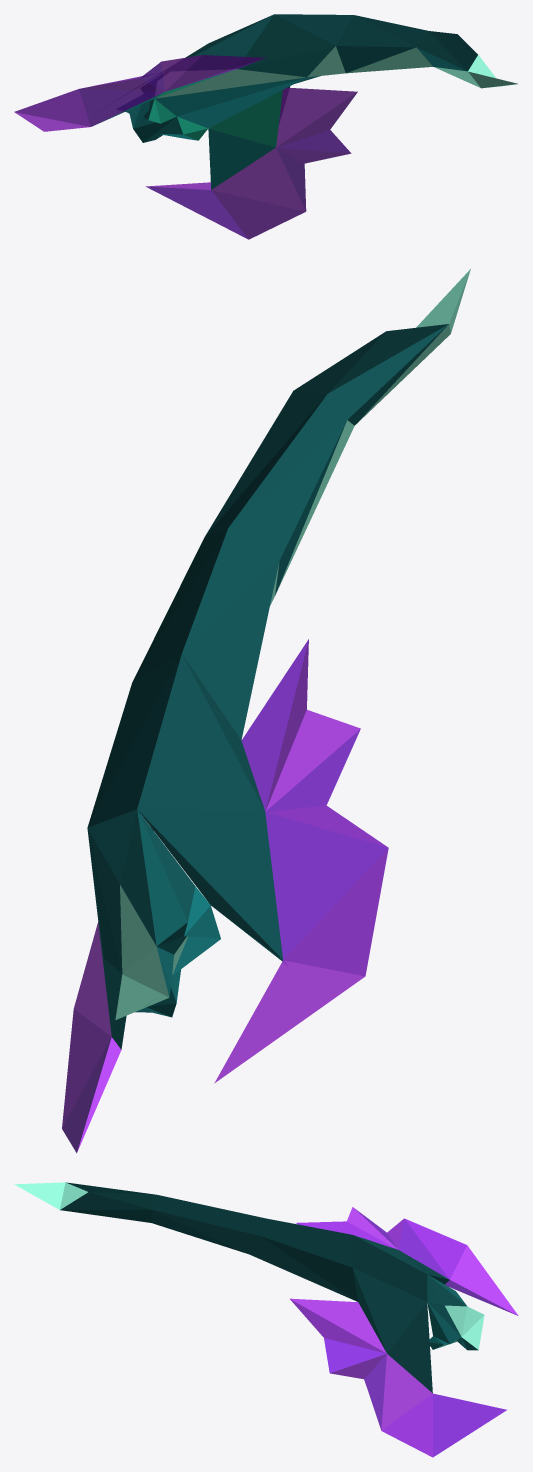
File: player_toxic_blowpipe.glb
The picture shows the model from 3 angles, top to bottom: view 1: azimuth 30°, elevation 25°; view 2: azimuth 150°, elevation 25°; view 3: azimuth 270°, elevation 25°; orthographic projection. The views are drawn at different scales.
Bounding box in the file's own units: 40.02 × 52.99 × 87.97.
2 materials, 2 textured.
